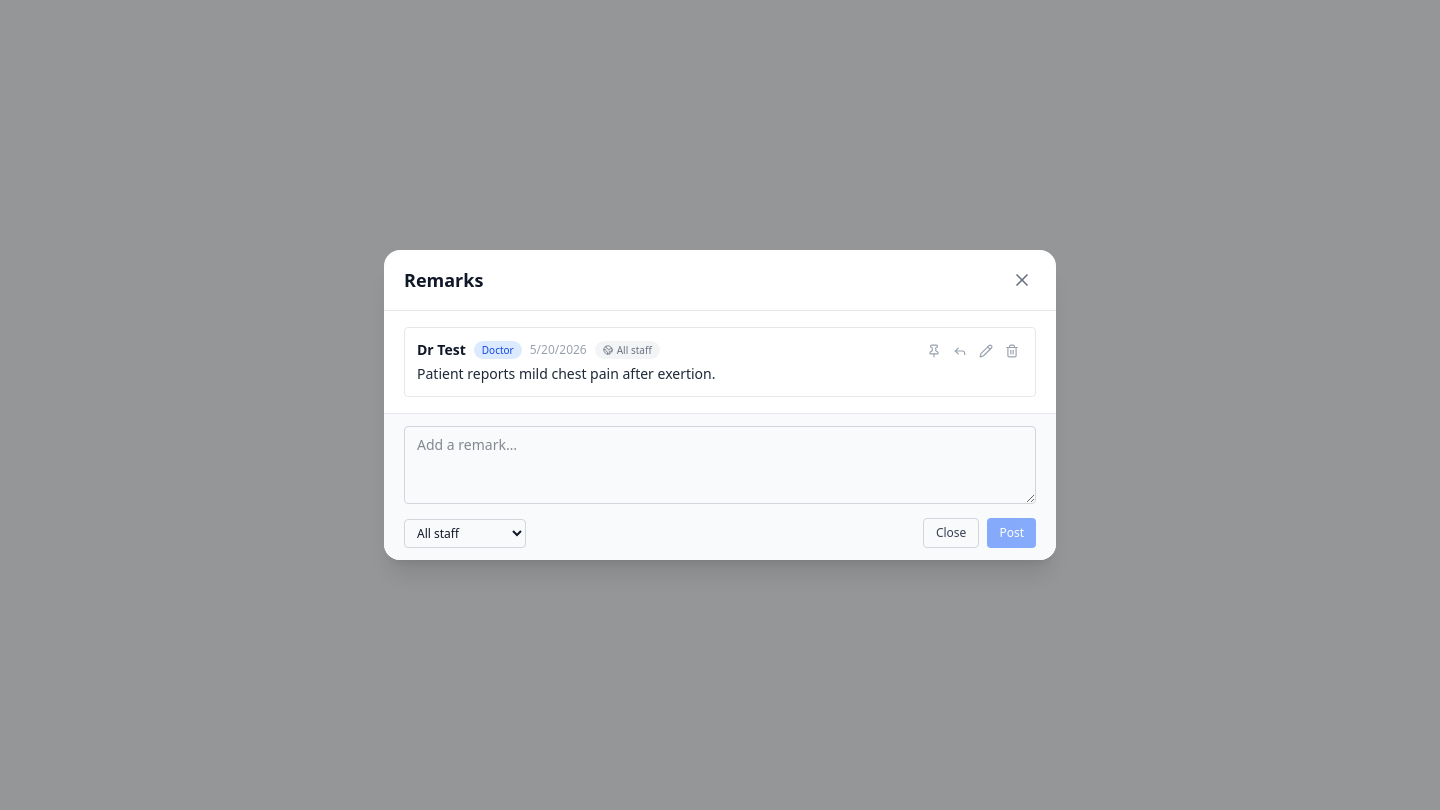
Test case: AppointmentRemarksModal (Pearl §2.1.7) › cancels an in-progress reply via the Cancel link in the banner
The width and height of the screenshot is (1440, 810).
Check: the text "Patient reports mild chest pain after exertion." is shown, box [417,364,716,383]
What coordinates should you click on to do the following:
click the button named "reply"
I would click on:
 (960, 351)
Its box is [949,340,971,362].
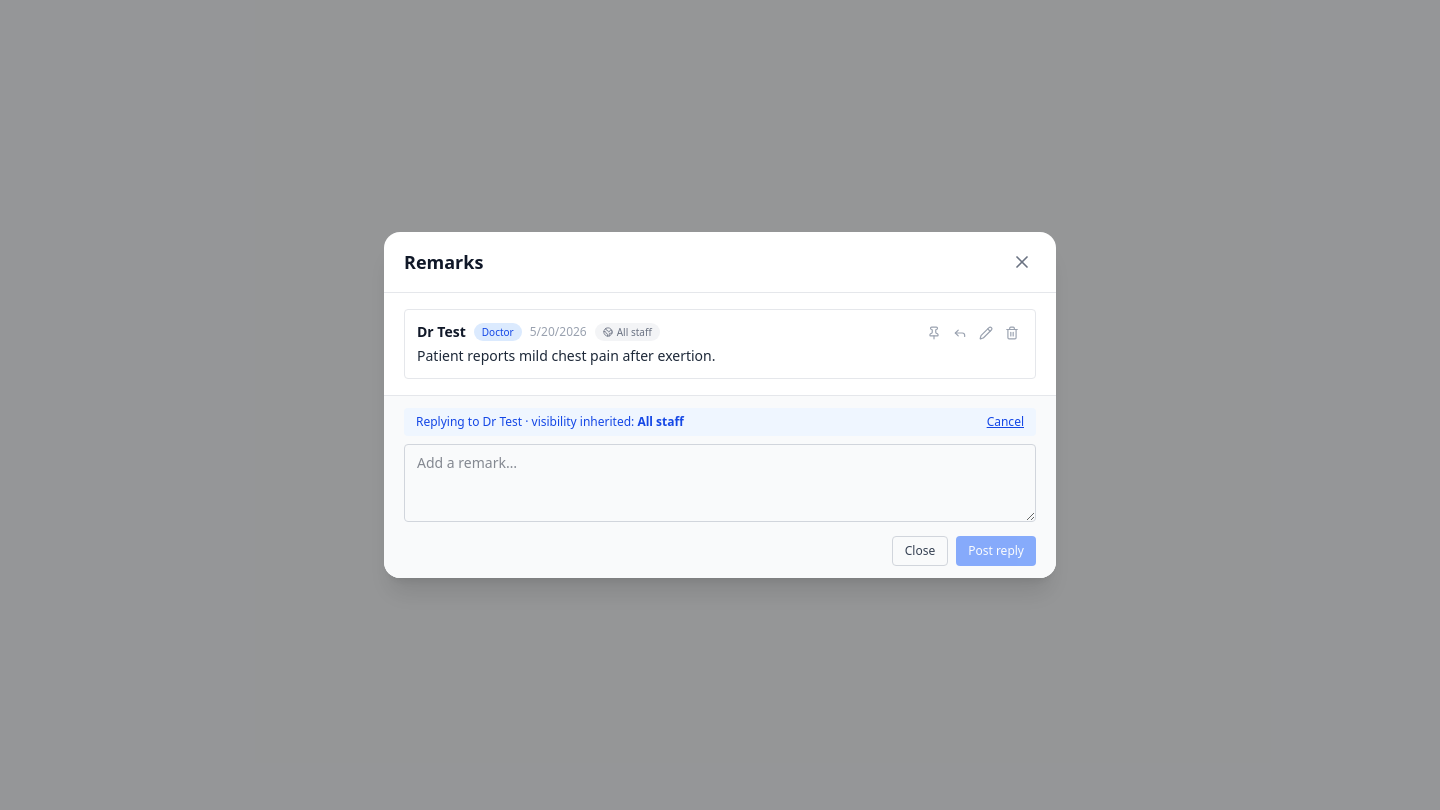
Check: the text "Replying to Dr Test · visibility inherited: All staff" is shown, box [416,414,684,430]
What coordinates should you click on to do the following:
click the button "Cancel"
I would click on:
 (1005, 422)
Its box is [987,414,1024,430].
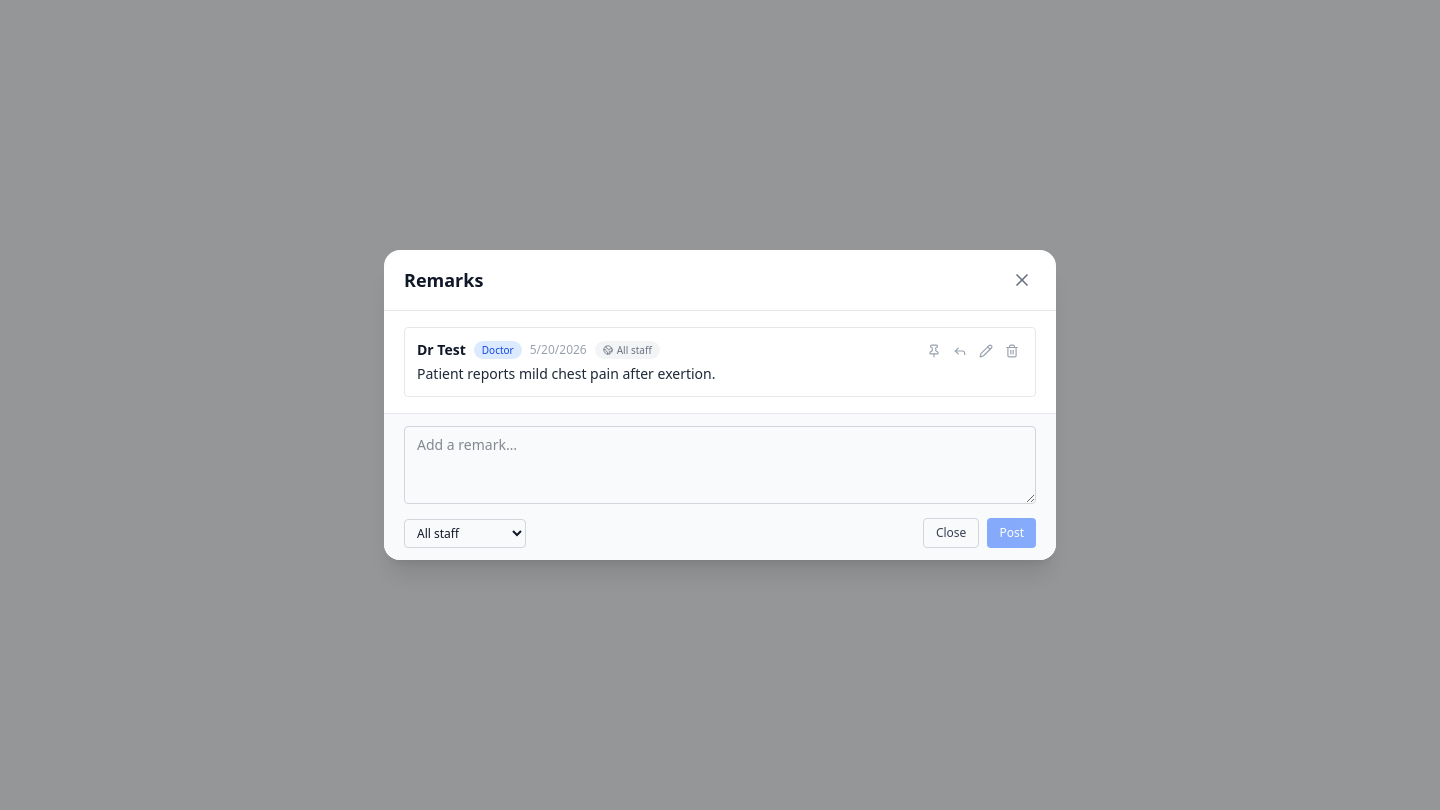
Check: the text "Replying to" is gone
Check: the button "Post" is shown, box [987,518,1036,548]
